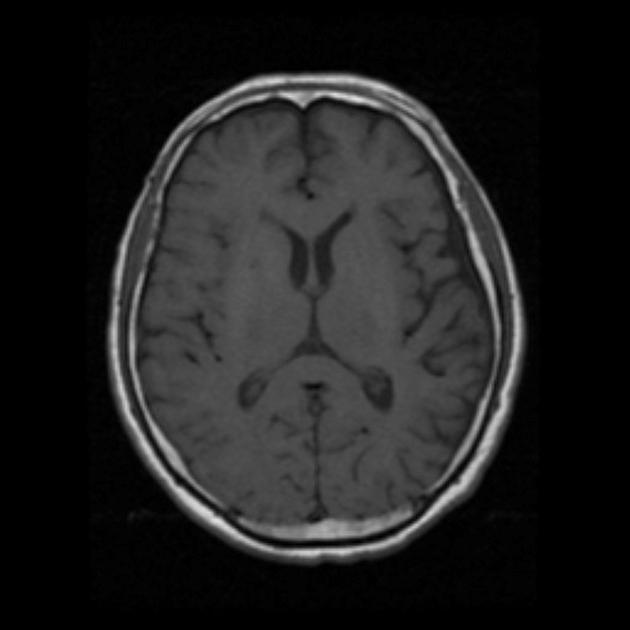Normal_Brain: (1, 3, 630, 630)
